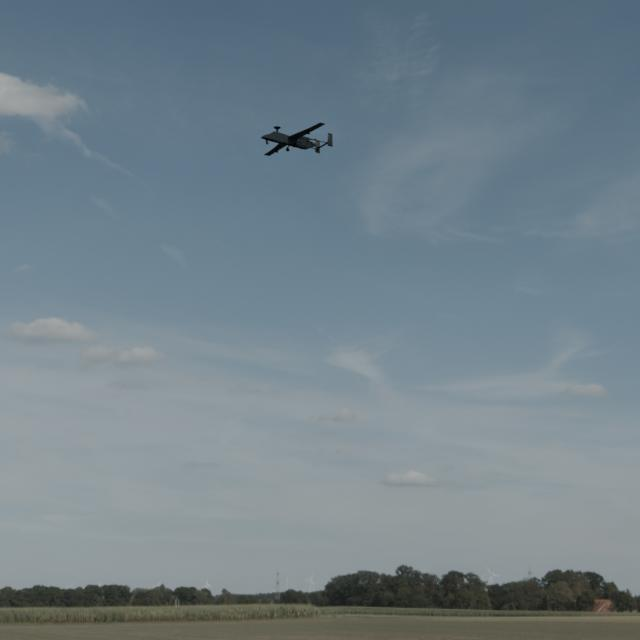Airaplan: (261, 122, 333, 156)
